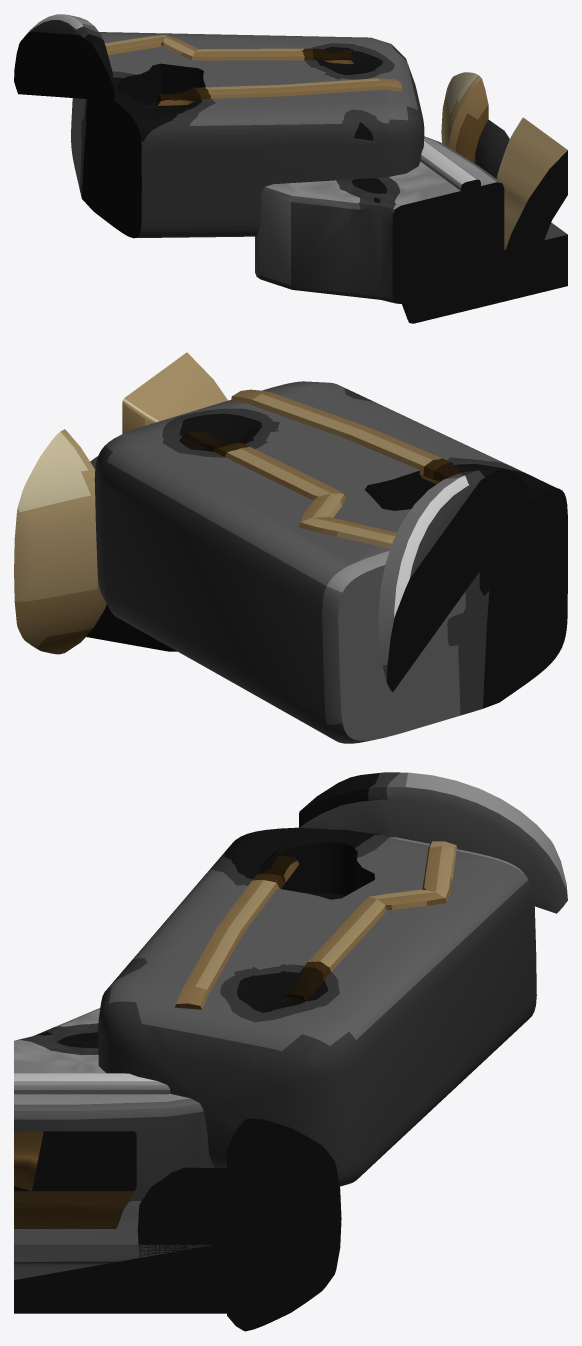
File: tusk_boss_164.glb
3 renders of one model, top to bottom at view 1: azimuth 30°, elevation 25°; view 2: azimuth 150°, elevation 25°; view 3: azimuth 270°, elevation 25°, orthographic. The views are drawn at different scales.
Parts seen in each view (by area): view 1: tusk_boss_164; view 2: tusk_boss_164; view 3: tusk_boss_164.
Part boxes in pixels (x1,y1,x2,y2): tusk_boss_164: [14, 14, 567, 323]; tusk_boss_164: [14, 352, 567, 743]; tusk_boss_164: [14, 772, 567, 1331].
Size of the model in its own units: 24 by 16.57 by 24.7.
